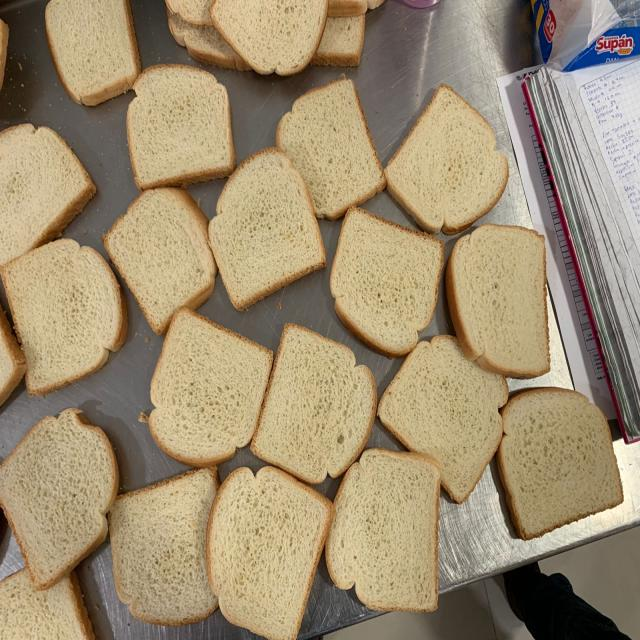pan: (376, 334, 509, 505), (205, 466, 334, 640), (0, 411, 119, 592), (2, 238, 129, 395), (253, 324, 377, 483), (150, 308, 273, 468), (208, 148, 326, 312), (498, 387, 623, 541), (325, 448, 440, 613), (385, 86, 508, 236), (107, 467, 219, 625), (330, 206, 444, 357), (106, 187, 218, 337), (446, 223, 550, 378), (278, 80, 385, 218), (125, 64, 235, 188)
